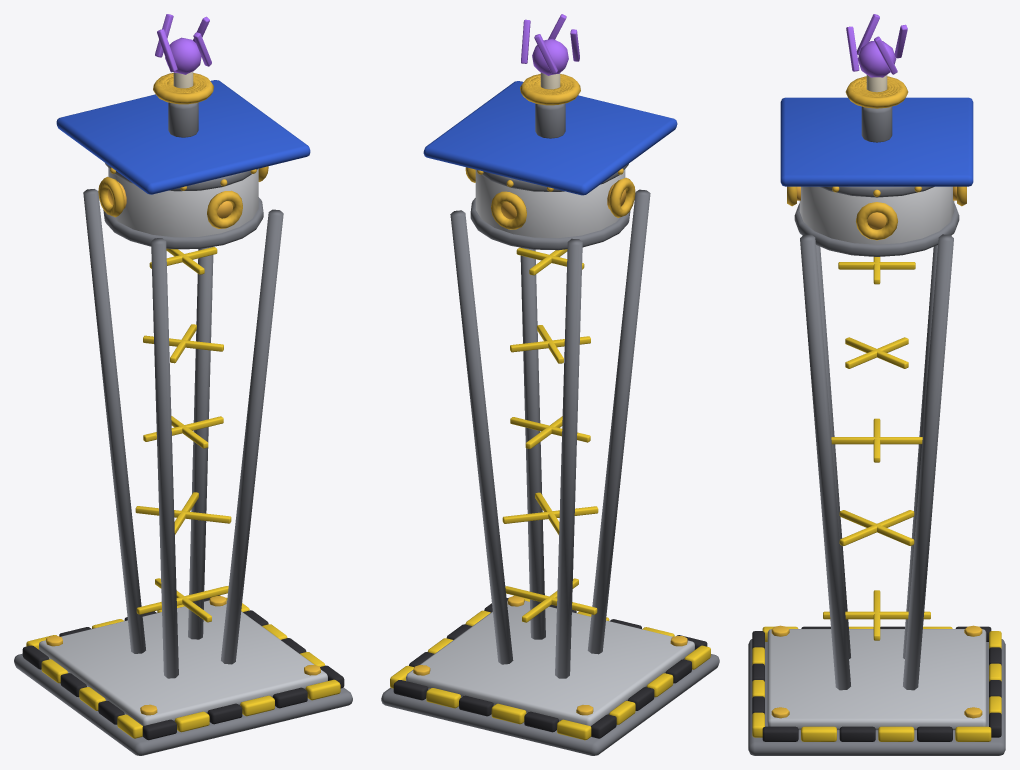
File: Watchtower.glb
3 views of the same model, side by side, from view 1: azimuth 30°, elevation 25°; view 2: azimuth 150°, elevation 25°; view 3: azimuth 270°, elevation 25° (orthographic). The views are drawn at different scales.
Parts seen in each view (by area): view 1: Watchtower; view 2: Watchtower; view 3: Watchtower.
Part boxes in pixels (x1,y1,x2,y2): Watchtower: [14, 14, 352, 755]; Watchtower: [381, 14, 719, 755]; Watchtower: [748, 14, 1005, 755].
Size of the model in its own units: 2 by 5.82 by 2.
